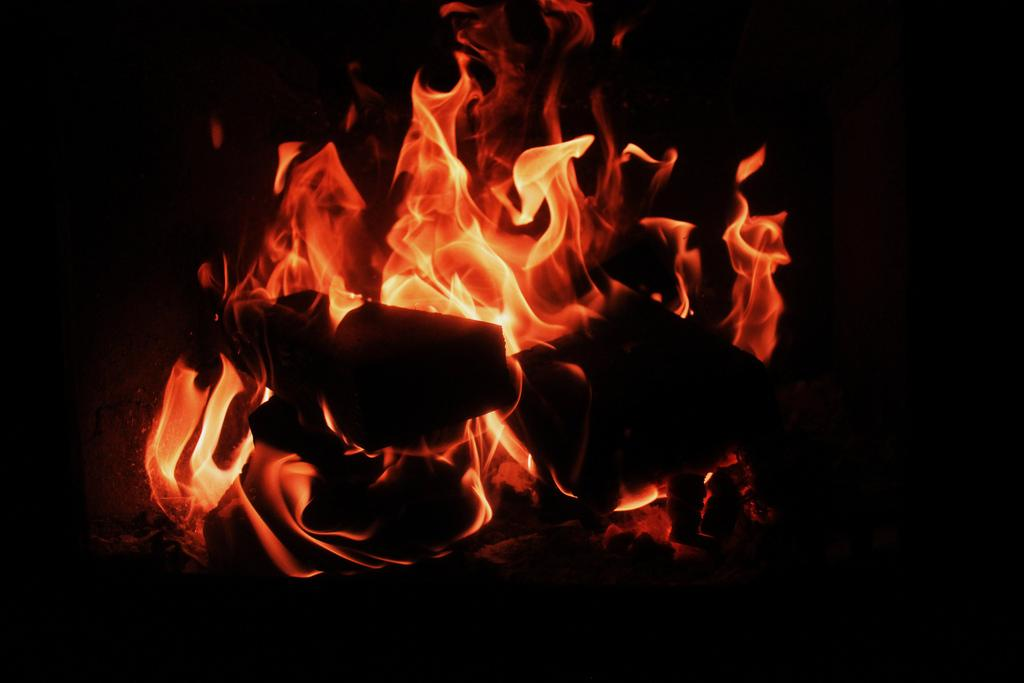fire: (407, 142, 533, 308), (155, 378, 237, 500), (713, 217, 787, 345)
